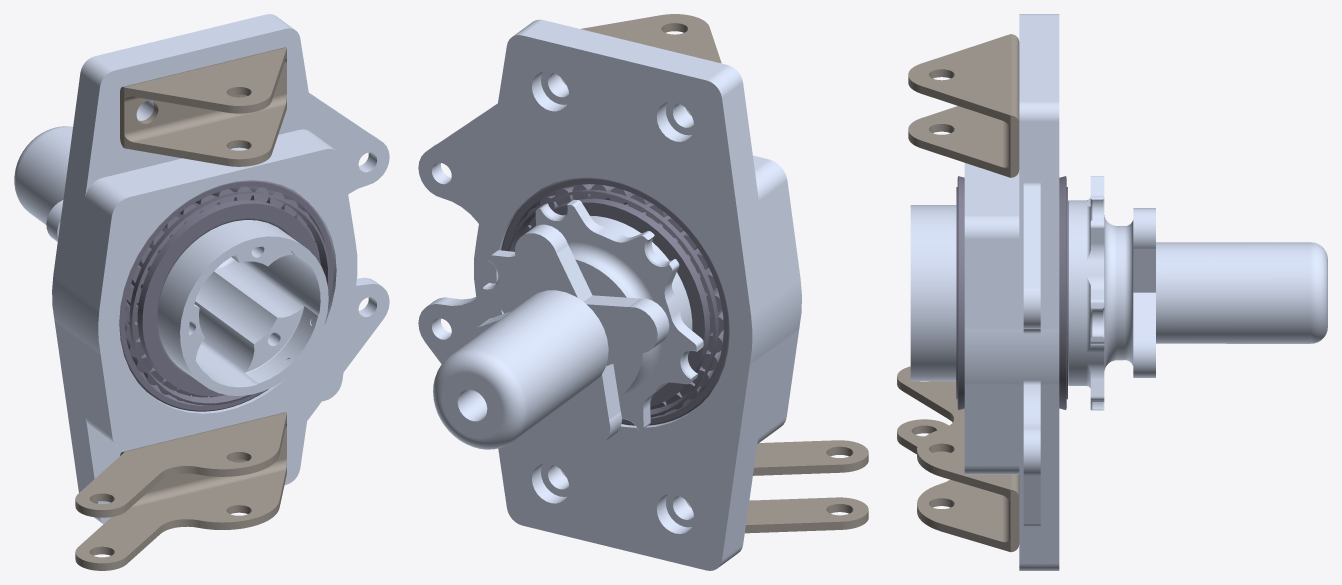
3 renders of one model, left to right at view 1: azimuth 30°, elevation 25°; view 2: azimuth 150°, elevation 25°; view 3: azimuth 270°, elevation 25°, orthographic. The views are drawn at different scales.
Visible parts, largest first — view 1: FSAE_RR_Upright-1, JaredCenterlockRearFinal (1)-1, RearLowerSuspensionClevice-1, L610549-L610510-TheTimkenCompany-3D-12-08-2025.stp-1, RearUpperSuspensionClevice-1; view 2: FSAE_RR_Upright-1, JaredCenterlockRearFinal (1)-1, L610549-L610510-TheTimkenCompany-3D-12-08-2025.stp-2, RearLowerSuspensionClevice-1, RearUpperSuspensionClevice-1; view 3: JaredCenterlockRearFinal (1)-1, FSAE_RR_Upright-1, RearUpperSuspensionClevice-1, RearLowerSuspensionClevice-1, L610549-L610510-TheTimkenCompany-3D-12-08-2025.stp-2, L610549-L610510-TheTimkenCompany-3D-12-08-2025.stp-1.
Boxes of the visible parts, bbox=[...] form: FSAE_RR_Upright-1: bbox=[52, 14, 389, 524]; JaredCenterlockRearFinal (1)-1: bbox=[14, 126, 328, 395]; RearLowerSuspensionClevice-1: bbox=[75, 412, 286, 570]; L610549-L610510-TheTimkenCompany-3D-12-08-2025.stp-1: bbox=[119, 180, 334, 411]; RearUpperSuspensionClevice-1: bbox=[120, 47, 286, 166]; FSAE_RR_Upright-1: bbox=[418, 19, 801, 570]; JaredCenterlockRearFinal (1)-1: bbox=[433, 200, 703, 449]; L610549-L610510-TheTimkenCompany-3D-12-08-2025.stp-2: bbox=[501, 177, 729, 425]; RearLowerSuspensionClevice-1: bbox=[561, 440, 868, 533]; RearUpperSuspensionClevice-1: bbox=[561, 14, 721, 115]; JaredCenterlockRearFinal (1)-1: bbox=[910, 176, 1327, 410]; FSAE_RR_Upright-1: bbox=[964, 14, 1059, 570]; RearUpperSuspensionClevice-1: bbox=[908, 34, 1019, 177]; RearLowerSuspensionClevice-1: bbox=[897, 366, 1019, 552]; L610549-L610510-TheTimkenCompany-3D-12-08-2025.stp-2: bbox=[1059, 176, 1067, 409]; L610549-L610510-TheTimkenCompany-3D-12-08-2025.stp-1: bbox=[956, 176, 964, 409].
Bounding box in the file's own units: 0.1568 × 0.1905 × 0.159.
